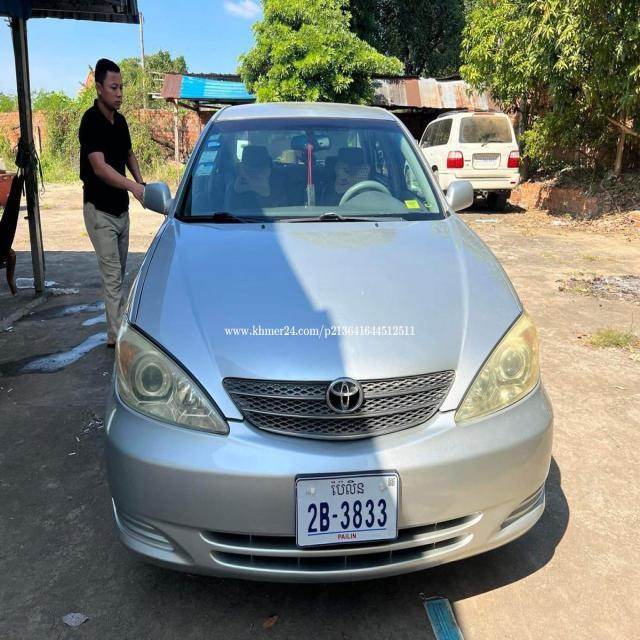Pailin: (331, 480, 364, 496)
